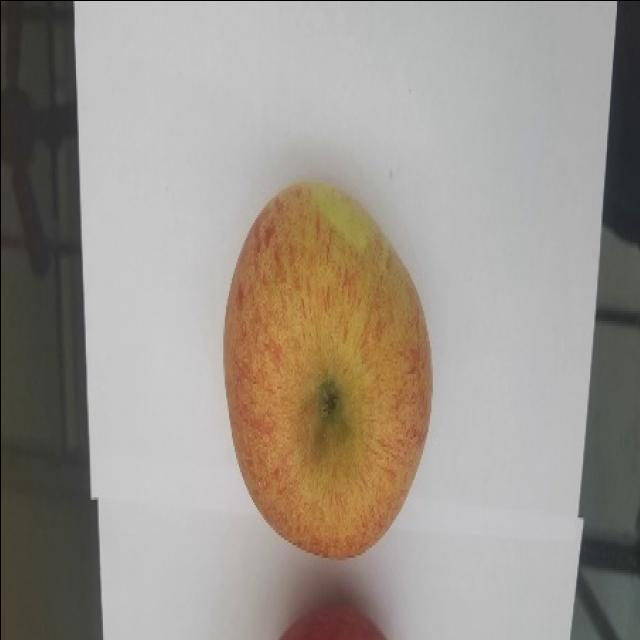Apple: (222, 178, 433, 559)
